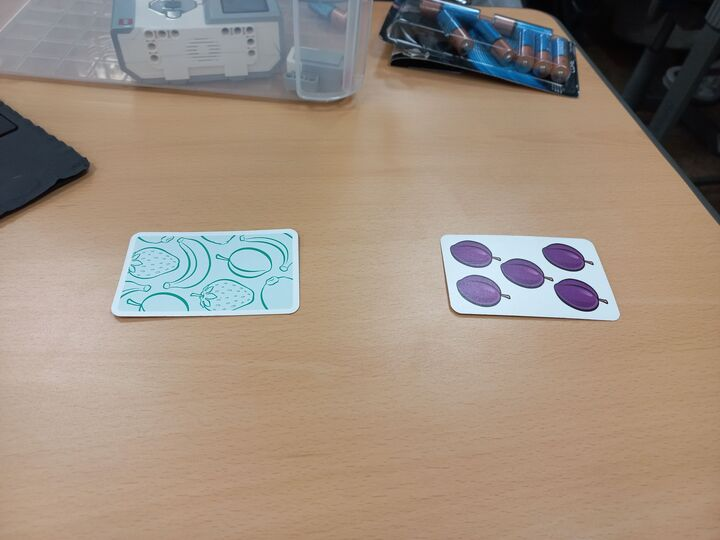plum5: (439, 232, 621, 326)
